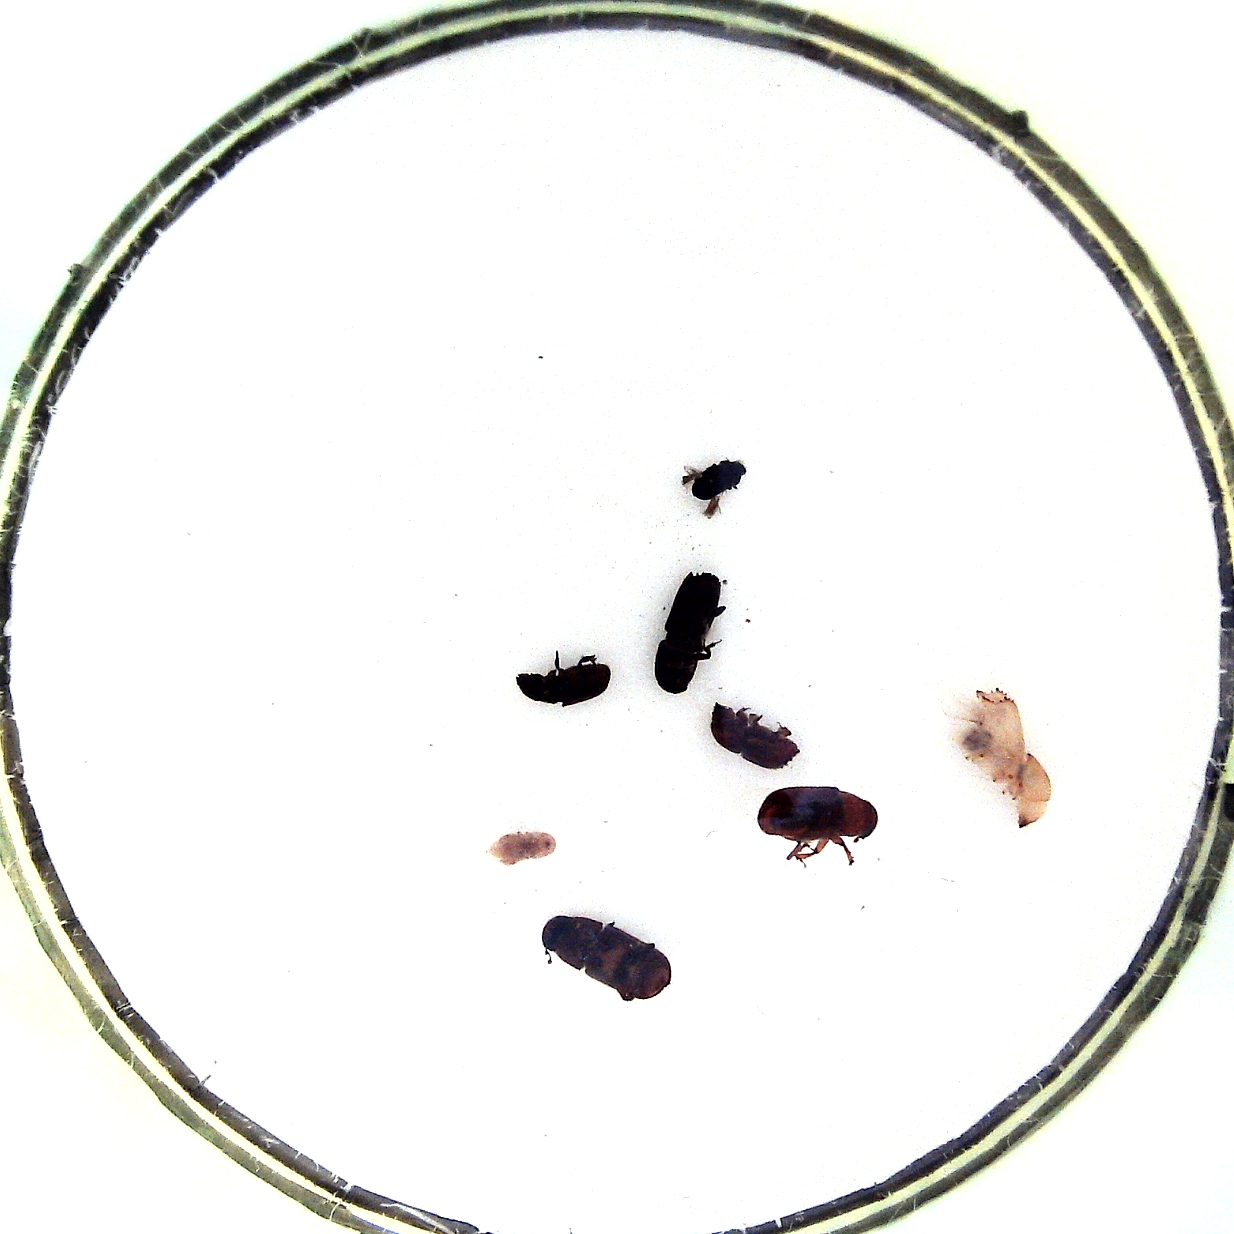Boerner: (946, 688, 1055, 829), (651, 573, 729, 696)
Leconte: (542, 909, 672, 1003), (749, 783, 878, 866)
Linnaeus: (710, 701, 801, 771)
acuminatus: (485, 829, 560, 868)
armandi: (513, 648, 612, 707)
coleoptera: (678, 455, 751, 518)
